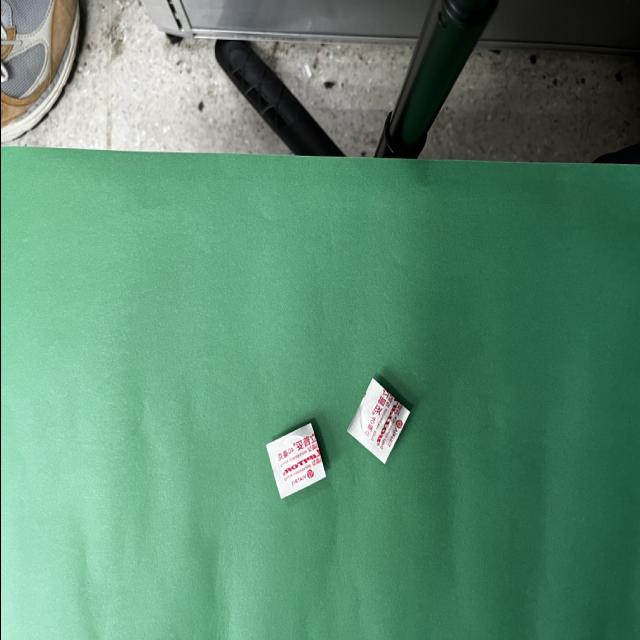Other Objects: (346, 379, 409, 463), (266, 423, 324, 498)
